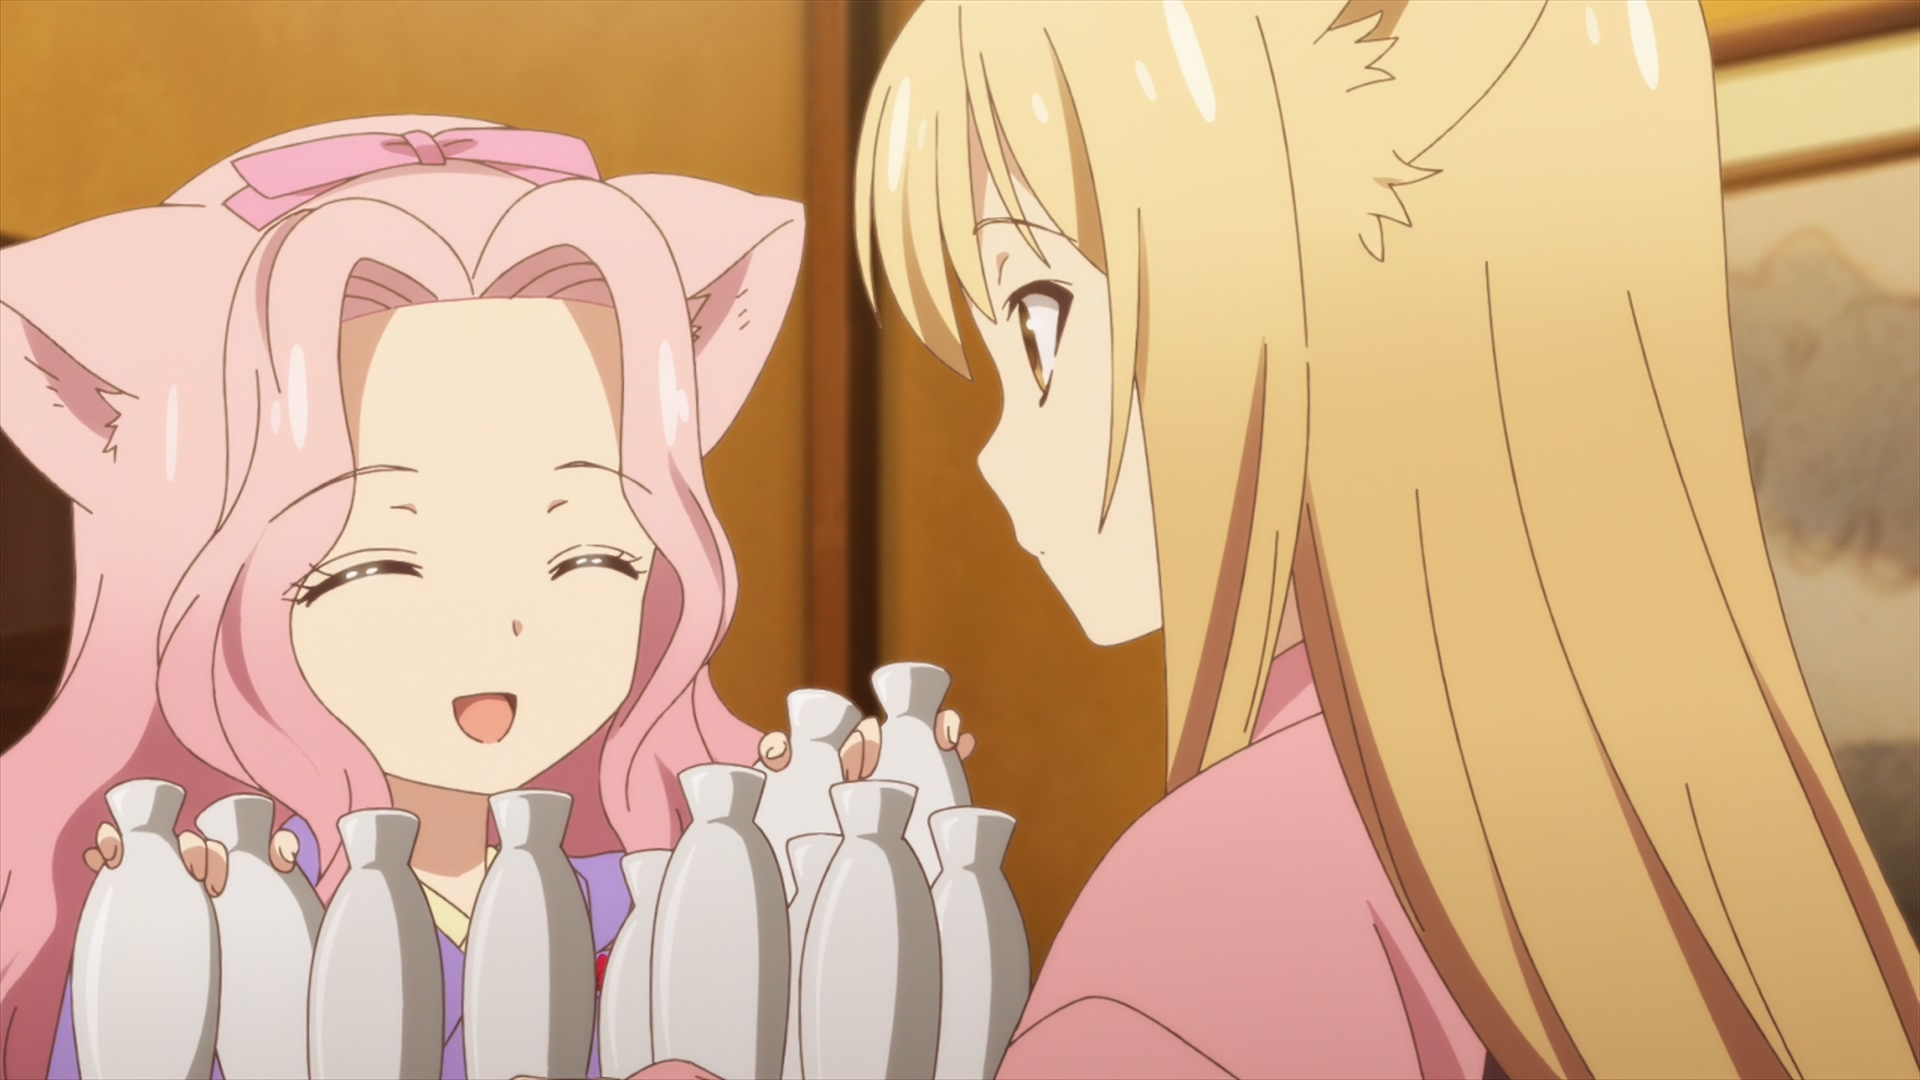柚: (852, 1, 1920, 1080)
莲: (1, 115, 808, 1080)
